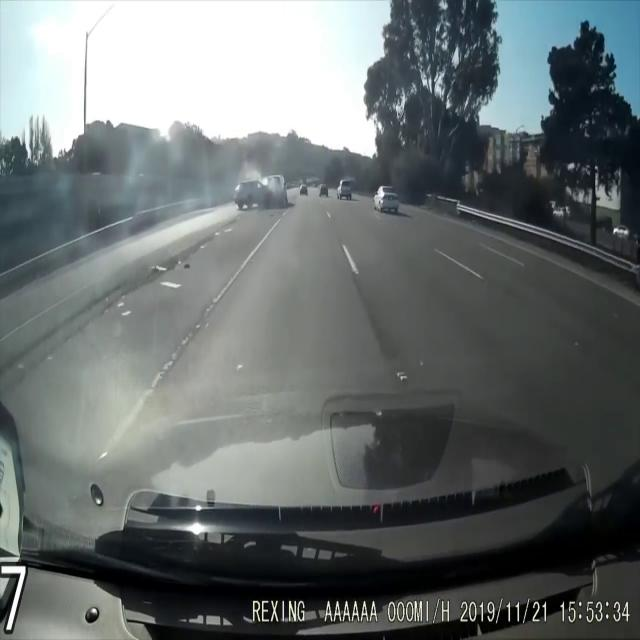accident: (231, 170, 294, 218)
